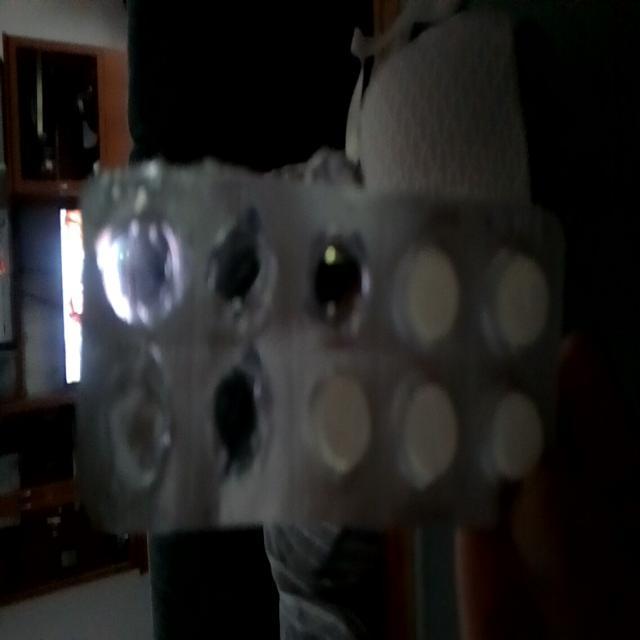Empty: (94, 202, 182, 334), (197, 204, 277, 330), (198, 346, 269, 486), (100, 366, 176, 496), (302, 218, 372, 346)
Pill: (298, 360, 375, 490), (482, 232, 559, 360), (390, 224, 462, 348), (393, 364, 463, 486), (482, 380, 546, 484)
